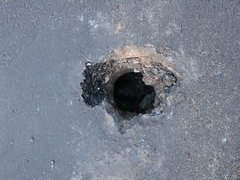Spalling: (79, 53, 180, 134)
